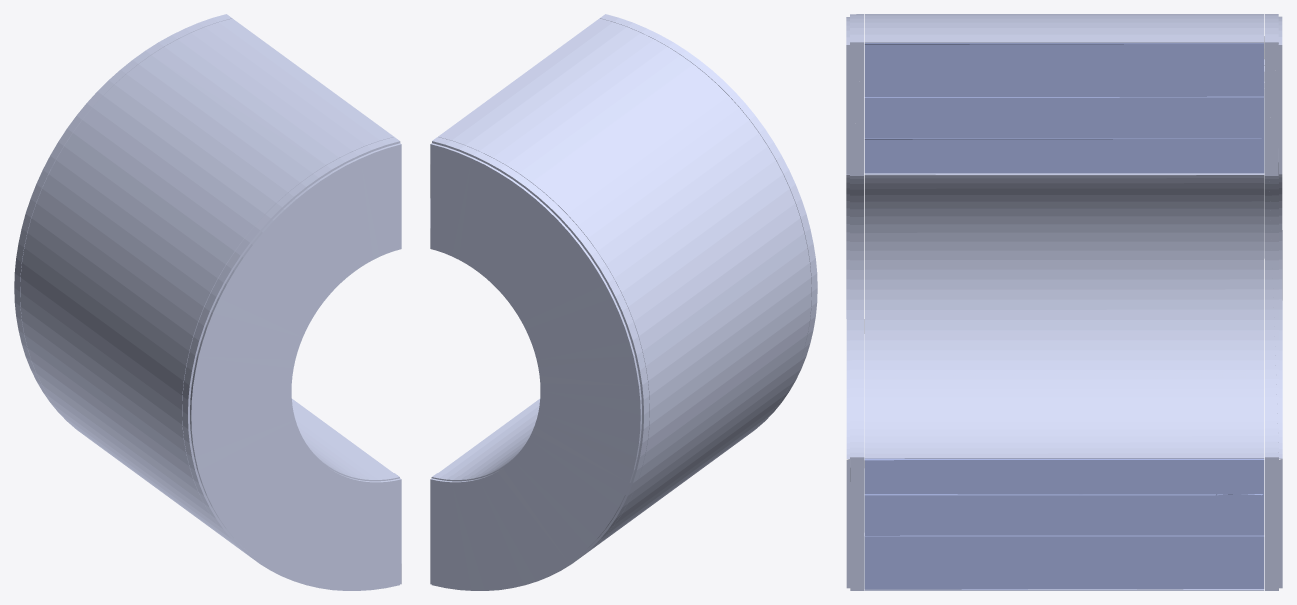
File: TRT-BAR-cut2.glb
3 views of the same model, side by side, from view 1: azimuth 30°, elevation 25°; view 2: azimuth 150°, elevation 25°; view 3: azimuth 270°, elevation 25° (orthographic). The views are drawn at different scales.
Parts seen in each view (by area): view 1: null; view 2: null; view 3: null.
Part boxes in pixels (<box>): null: <box>14,14,401,590</box>; null: <box>430,14,817,590</box>; null: <box>846,14,1282,590</box>.
Size of the model in its own units: 1.08 by 2.16 by 1.56.
